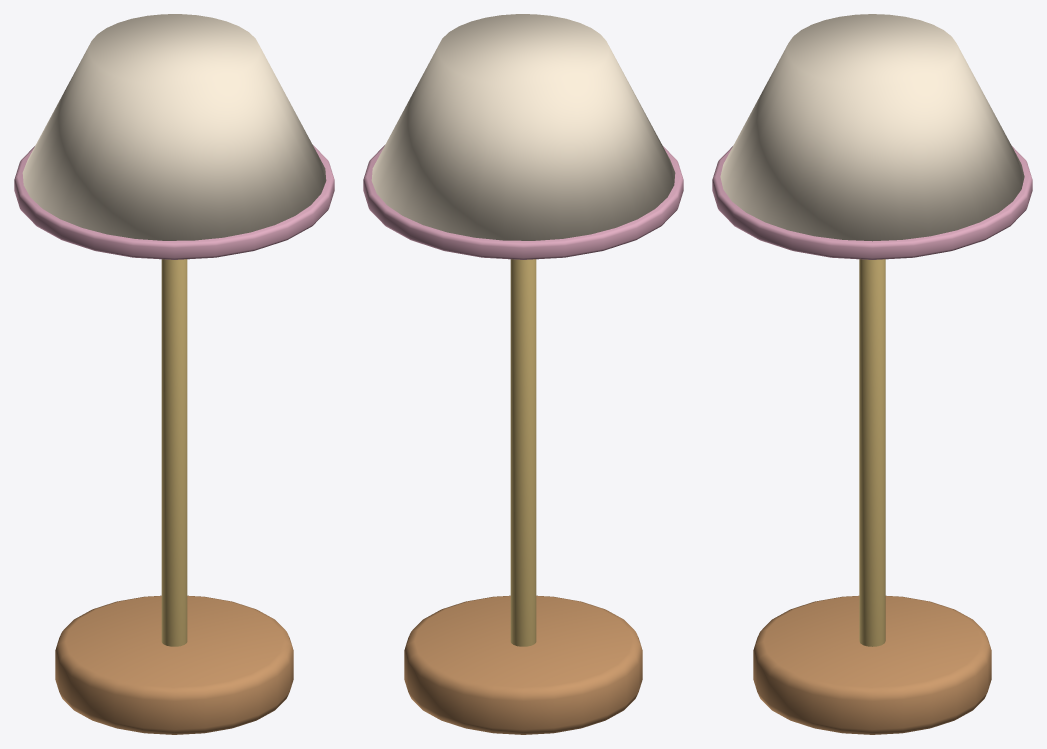
Rendered from reading-lamp.glb.
3 renders of one model, left to right at view 1: azimuth 30°, elevation 25°; view 2: azimuth 150°, elevation 25°; view 3: azimuth 270°, elevation 25°, orthographic.
Parts seen in each view (by area): view 1: AssetSurface; view 2: AssetSurface; view 3: AssetSurface.
Boxes of the visible parts, x1,y1,x2,y2 form: AssetSurface: (14, 14, 334, 734); AssetSurface: (363, 14, 683, 734); AssetSurface: (712, 14, 1032, 734).
Bounding box in the file's own units: 0.86 × 1.89 × 0.86.
